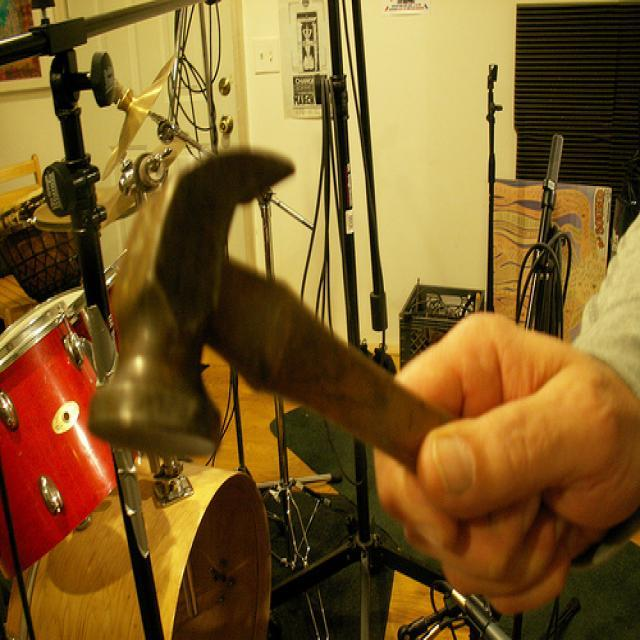hammer: (84, 125, 503, 542)
